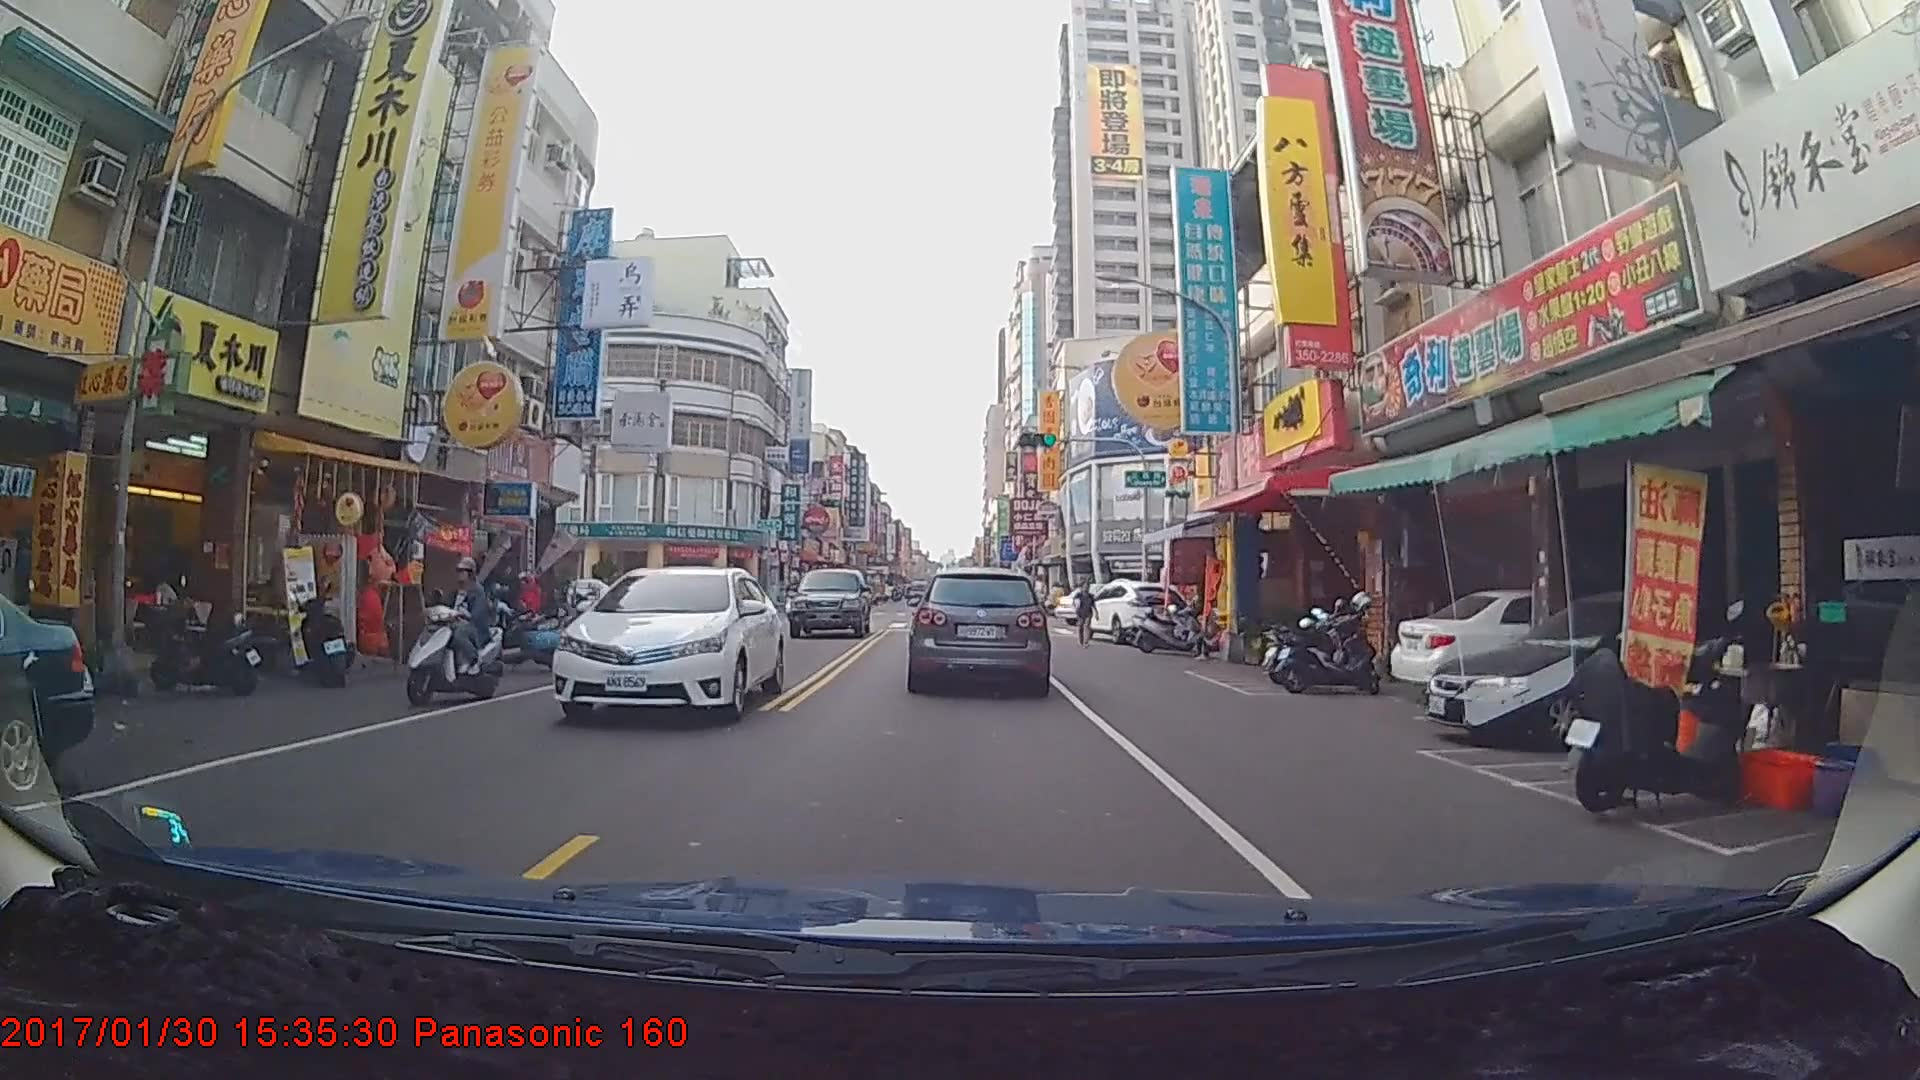pedestrian: (1075, 581, 1097, 649)
rider: (397, 560, 517, 713)
vehicle: (1424, 587, 1815, 755), (546, 564, 780, 728), (0, 558, 94, 805), (909, 567, 1048, 692), (1078, 576, 1194, 641), (790, 566, 871, 639), (905, 578, 930, 605)
